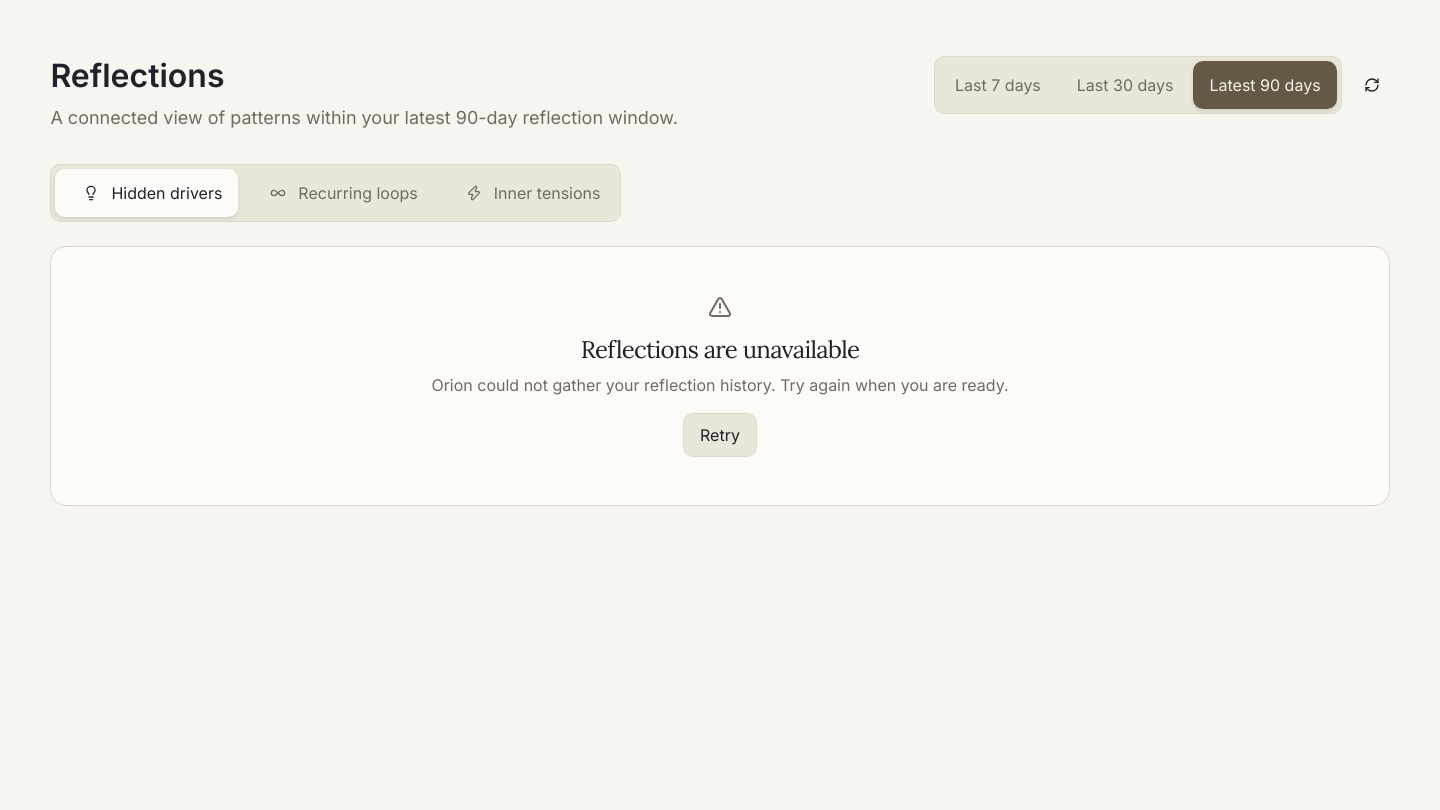
Test: ReflectionsScreen › shows a technical initial error and retry without fabricating insufficiency
Expected: the heading "Reflections are unavailable" is shown, [581,334,859,365]
Click the button "Retry" at [720, 435], box [683,413,757,457]
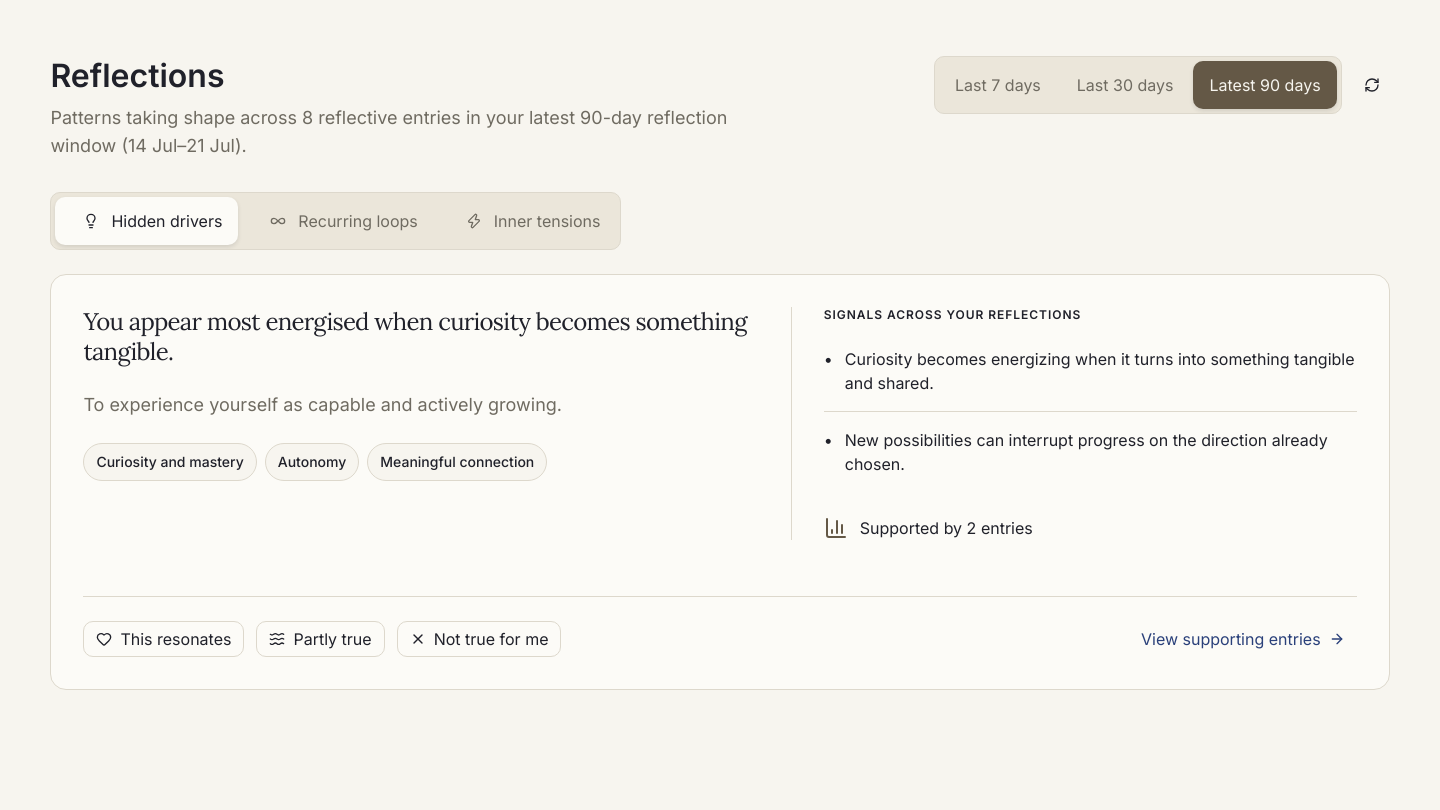
Expected: the text "Supported by 2 entries" is shown, [860,516,1033,540]
